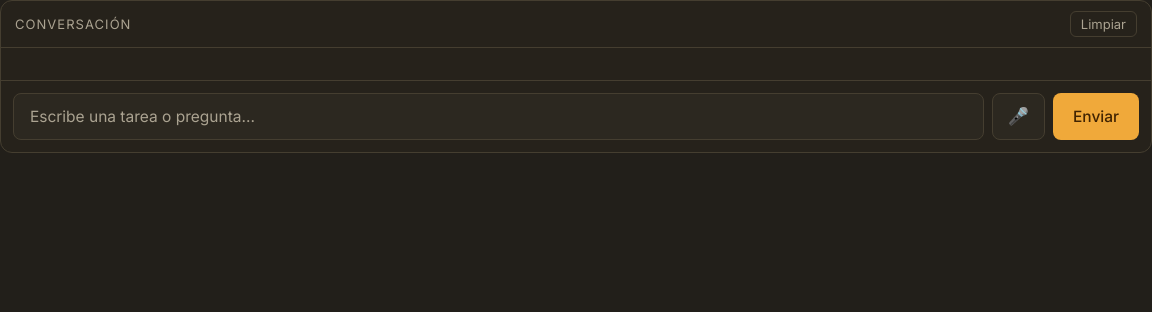
it: ChatWindow › muestra un mensaje de error si sendMessage falla
In the field with placeholder "Escribe una tarea o pregunta...": [498, 116] box [13,93,984,140], type "hola"
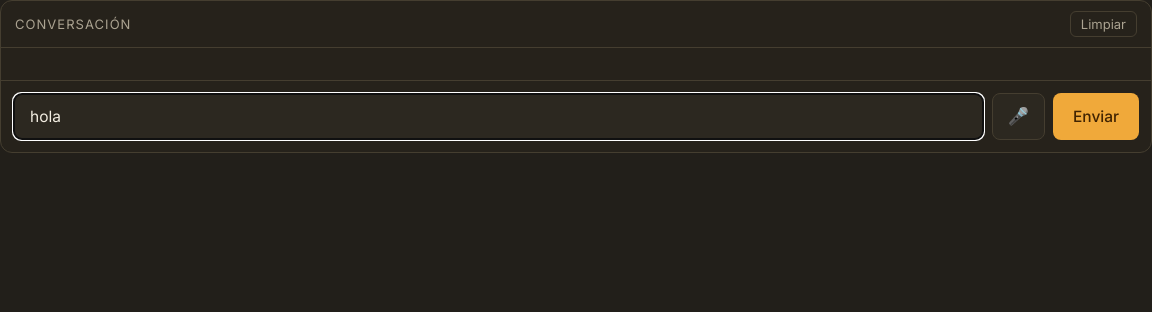
Click the button "Enviar": [1096, 116] box [1053,93,1139,140]
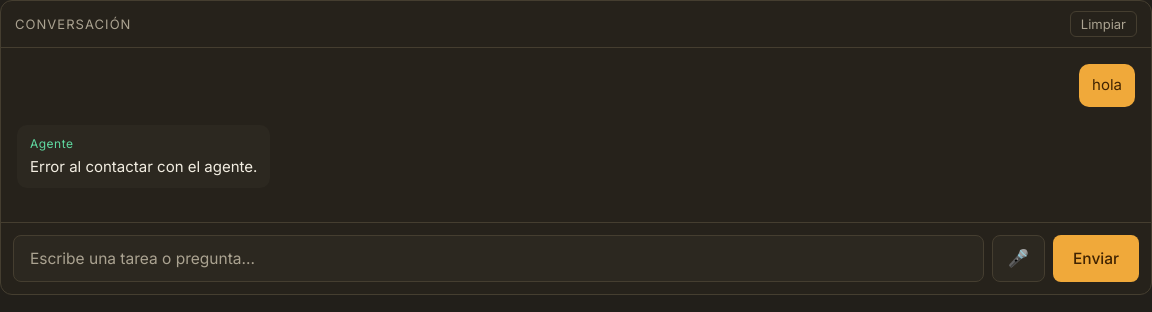
Expected: the text "Error al contactar con el agente." is shown, [30,156,257,176]
